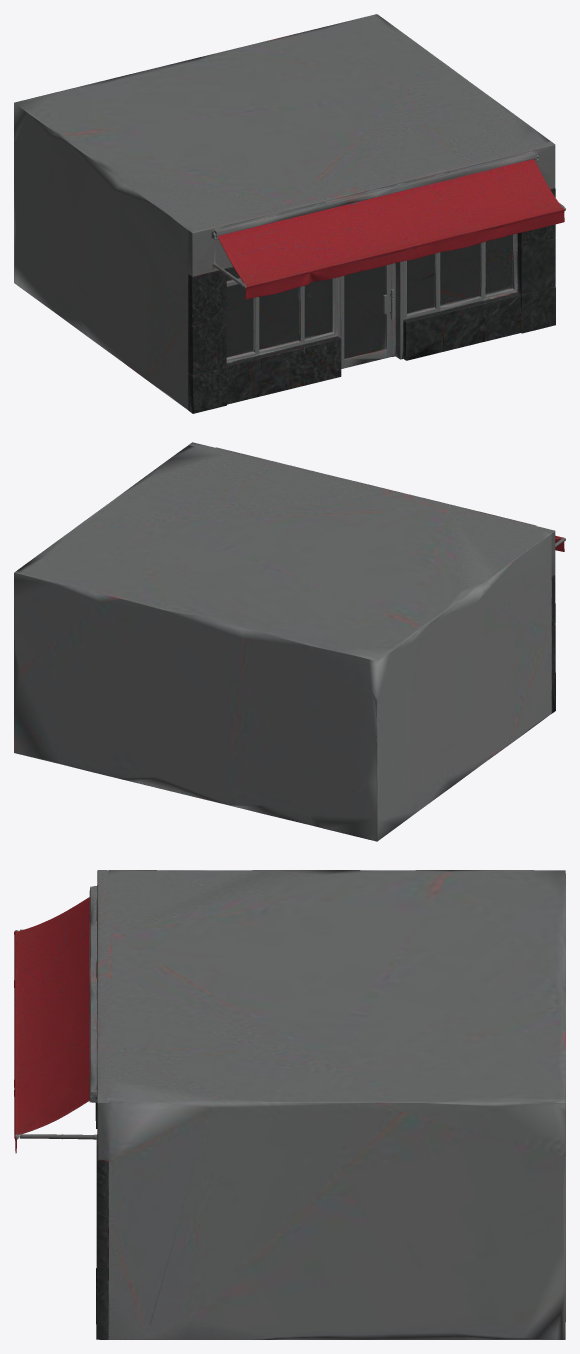
Rendered from shopfront.glb.
3 views of the same model, one above another, from view 1: azimuth 30°, elevation 25°; view 2: azimuth 150°, elevation 25°; view 3: azimuth 270°, elevation 25° (orthographic). The views are drawn at different scales.
Bounding box in the file's own units: 1.9 × 0.9041 × 1.9.
1 material, 1 textured.
